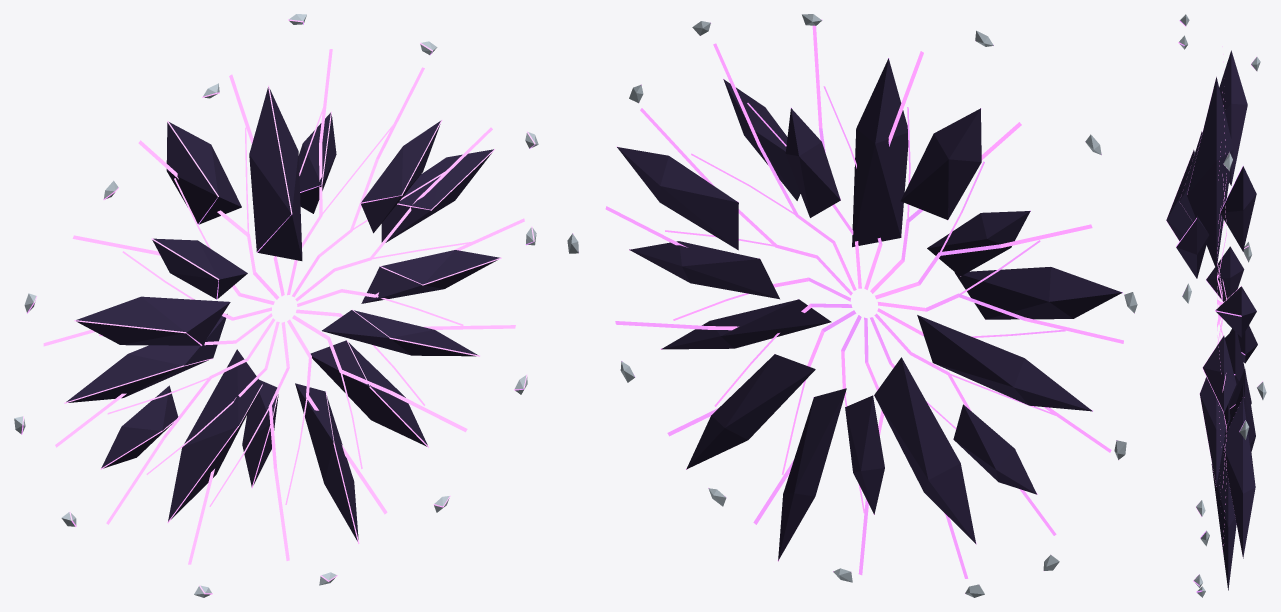
Rendered from void-fracture.glb.
3 views of the same model, side by side, from view 1: azimuth 30°, elevation 25°; view 2: azimuth 150°, elevation 25°; view 3: azimuth 270°, elevation 25° (orthographic). The views are drawn at different scales.
Parts seen in each view (by area): view 1: void-fracture_obsidian, void-fracture_energy, void-fracture_silver; view 2: void-fracture_obsidian, void-fracture_energy, void-fracture_silver; view 3: void-fracture_obsidian, void-fracture_energy, void-fracture_silver.
Part boxes in pixels (left/top/right/bottom): void-fracture_obsidian: left=66, top=87, right=499, bottom=541; void-fracture_energy: left=21, top=19, right=535, bottom=594; void-fracture_silver: left=14, top=14, right=538, bottom=597; void-fracture_obsidian: left=617, top=58, right=1122, bottom=560; void-fracture_energy: left=572, top=19, right=1134, bottom=594; void-fracture_silver: left=567, top=14, right=1137, bottom=597; void-fracture_obsidian: left=1166, top=50, right=1257, bottom=590; void-fracture_energy: left=1166, top=20, right=1262, bottom=592; void-fracture_silver: left=1179, top=14, right=1266, bottom=597.
Bounding box in the file's own units: 4.09 × 4.12 × 0.7066.
